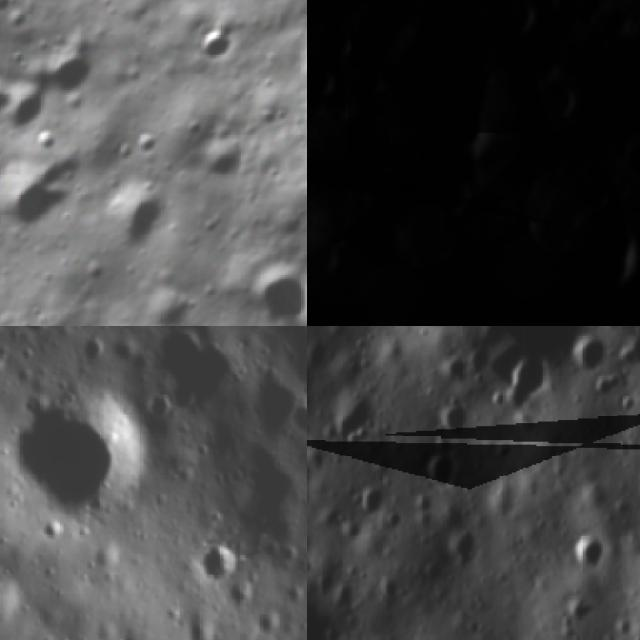crater: (13, 388, 151, 516), (387, 31, 498, 153), (322, 200, 417, 322), (543, 207, 639, 315), (144, 332, 253, 420), (0, 134, 82, 243), (307, 533, 384, 640), (95, 173, 180, 264), (27, 33, 108, 113), (184, 128, 258, 201), (495, 345, 562, 420), (324, 384, 390, 458), (425, 153, 482, 224), (0, 76, 58, 143), (562, 523, 623, 580), (132, 275, 198, 326), (196, 534, 250, 586), (280, 19, 307, 122), (532, 76, 583, 130), (415, 443, 462, 499), (189, 20, 237, 69), (440, 516, 483, 570), (307, 335, 334, 421), (430, 396, 478, 443), (568, 327, 612, 378), (328, 16, 367, 65), (126, 124, 170, 166), (438, 345, 479, 387), (499, 0, 542, 39), (307, 55, 341, 104), (0, 575, 30, 629), (325, 86, 365, 126), (515, 0, 571, 26), (0, 66, 23, 129), (173, 108, 208, 146), (0, 3, 35, 40), (285, 393, 307, 444), (0, 0, 16, 23)
